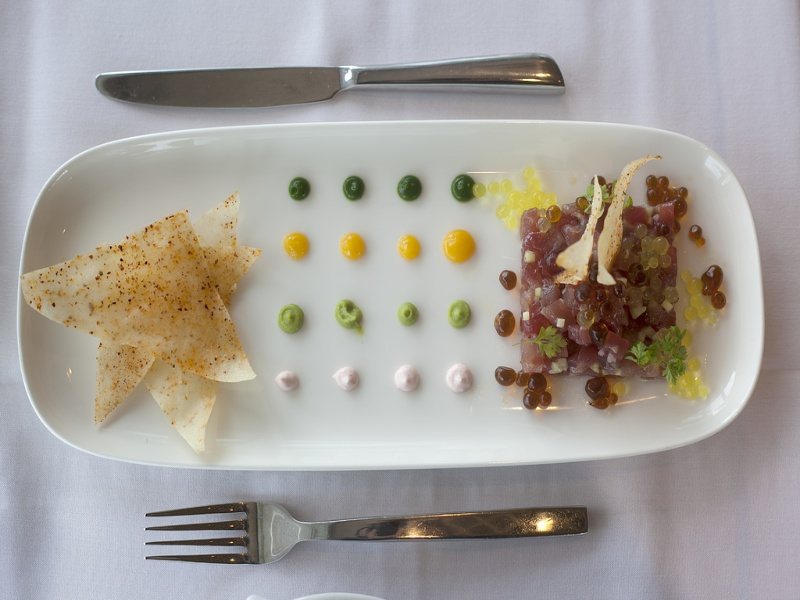knife: (90, 50, 573, 111)
